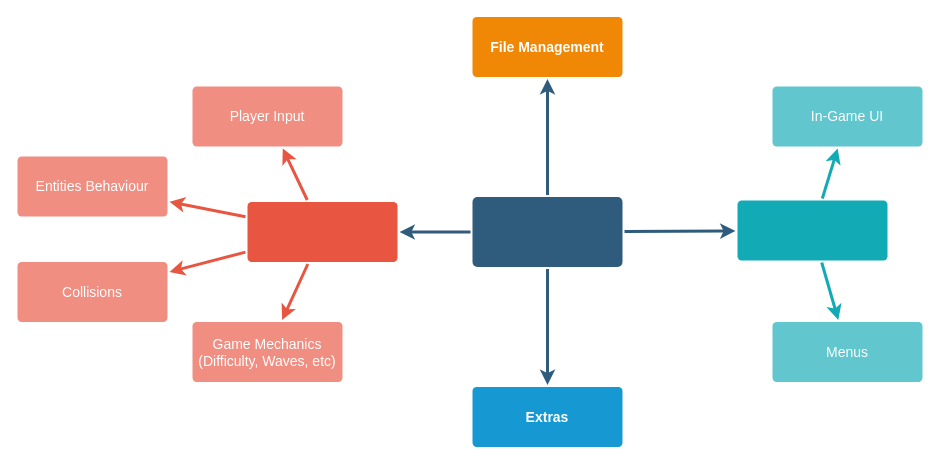
Some shapes in this 939 by 464 pixel diagram are drawn without their labels. Each missing label, with the centre of its shape:
"Gameplay" belongs at (x=322, y=232).
"Program.cpp" belongs at (x=547, y=231).
"UI (User Interface)" belongs at (x=812, y=230).
